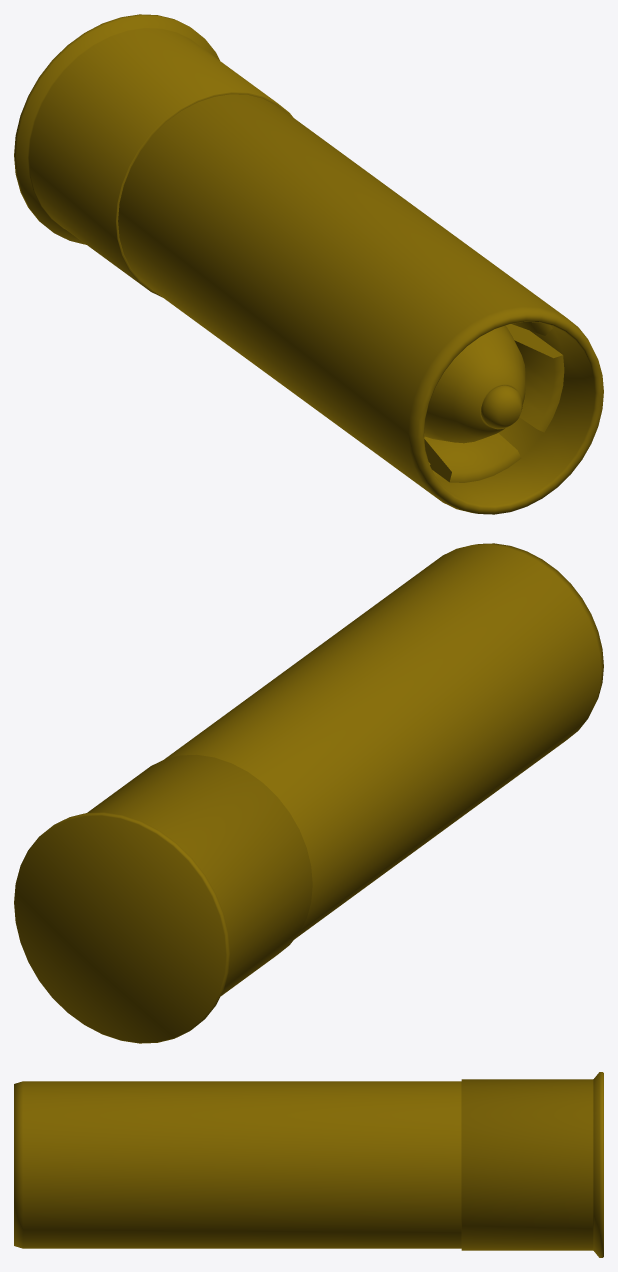
File: 12ga_APslug.FBX
The picture shows the model from 3 angles, top to bottom: view 1: azimuth 30°, elevation 25°; view 2: azimuth 150°, elevation 25°; view 3: azimuth 270°, elevation 25°; orthographic projection. The views are drawn at different scales.
Visible parts, largest first — view 1: 12ga_APslug; view 2: 12ga_APslug; view 3: 12ga_APslug.
Part boxes in pixels (bbox=[...]): 12ga_APslug: bbox=[14, 14, 603, 514]; 12ga_APslug: bbox=[14, 543, 603, 1043]; 12ga_APslug: bbox=[14, 1072, 603, 1257].
Bounding box in the file's own units: 2.06 × 6.5 × 2.06.
